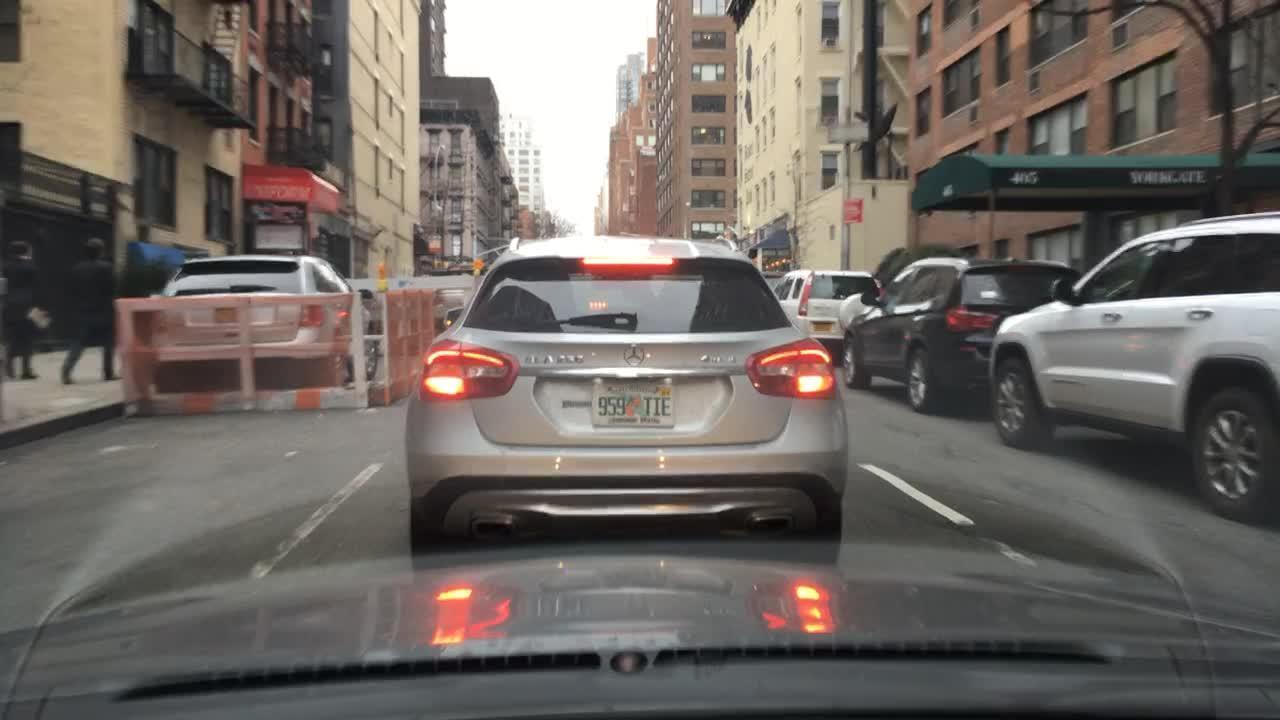Mercedes: (619, 343, 650, 369)
